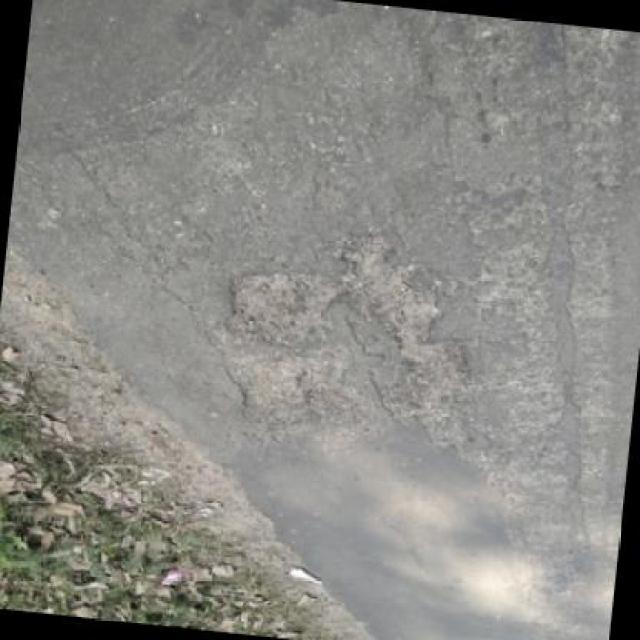pothole1: (194, 216, 494, 458)
